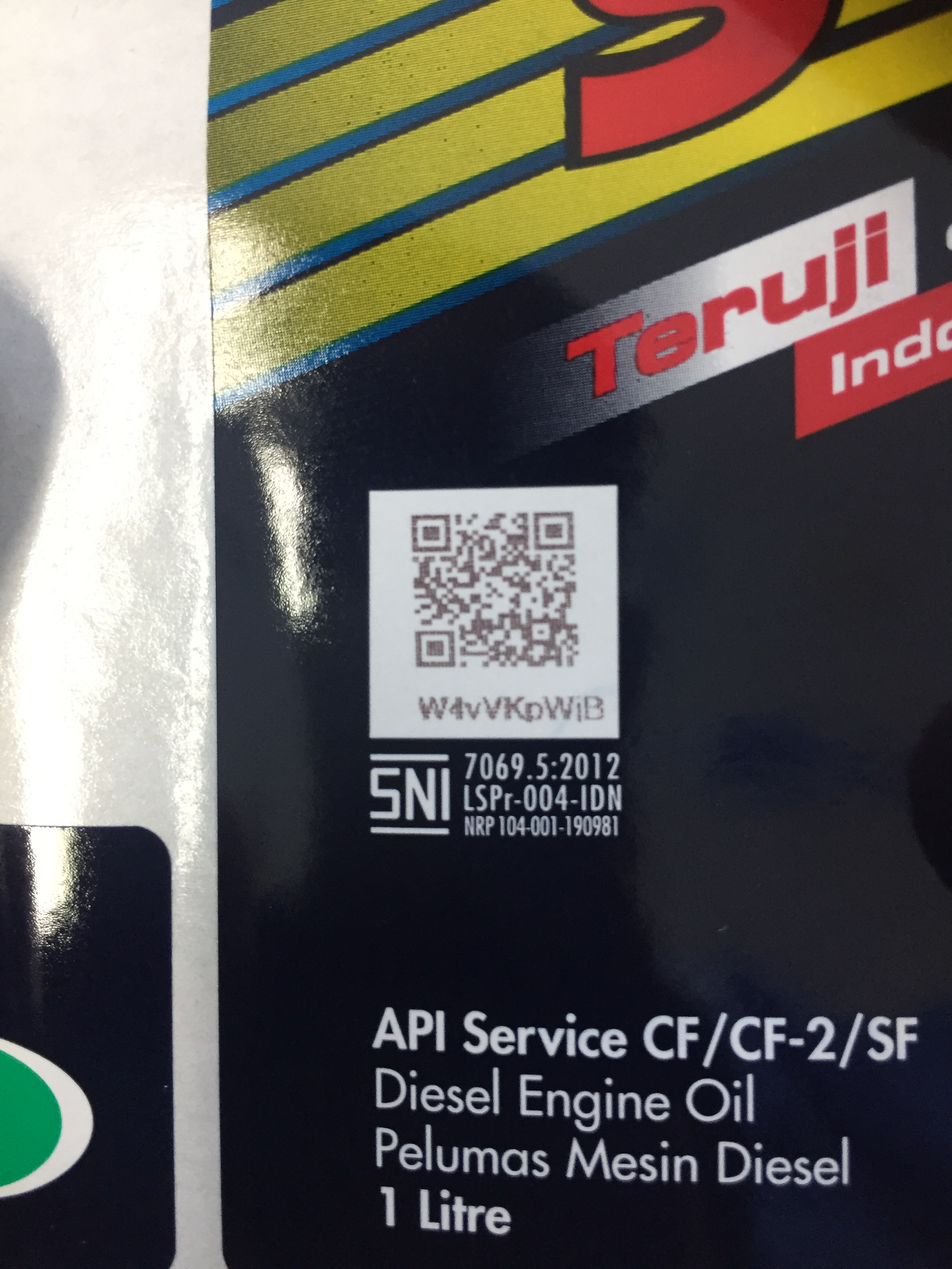QR-CODE: (403, 502, 589, 675)
